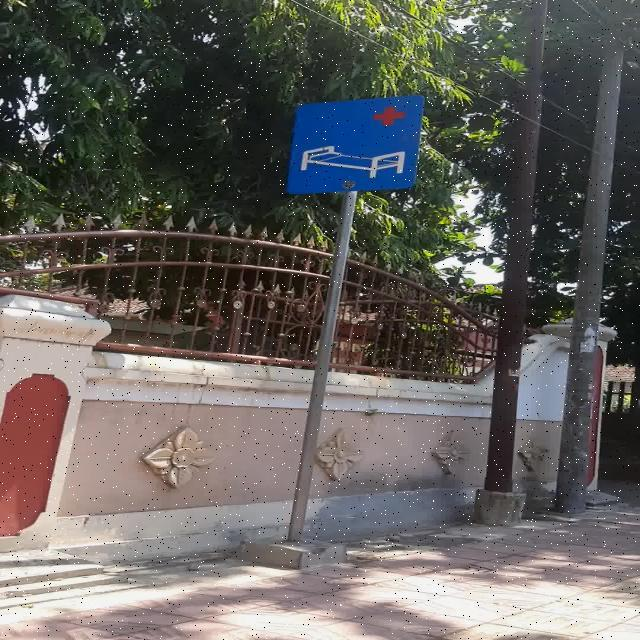Rumah Sakit: (286, 95, 425, 194)
